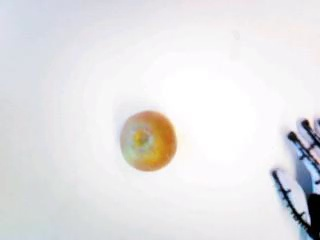apple: (121, 109, 174, 170)
hand: (269, 112, 320, 240)
